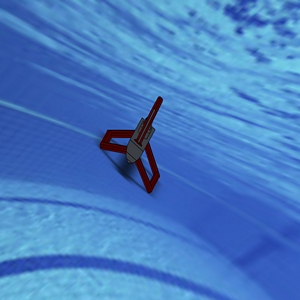submarine: (82, 80, 190, 200)
